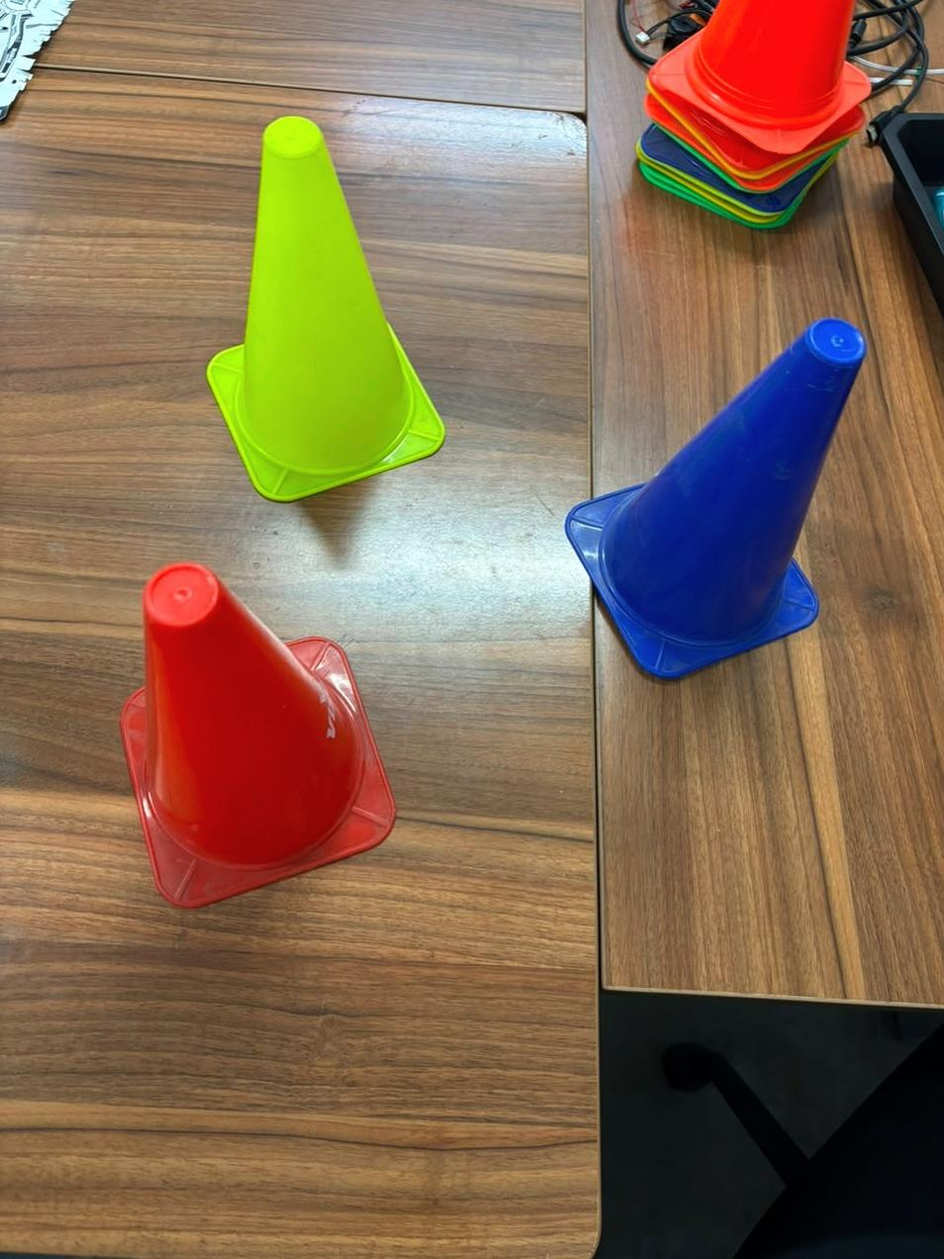0 cone: (612, 337, 859, 653), (209, 130, 407, 463), (144, 564, 350, 857)
